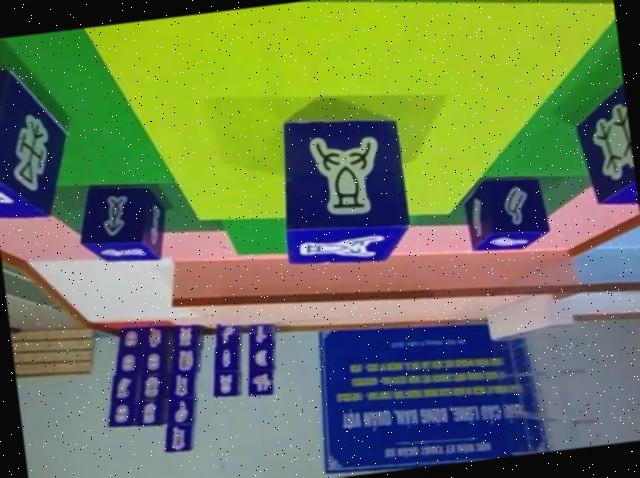R2 Real Blue: (271, 106, 414, 272), (0, 44, 76, 216), (570, 68, 638, 211), (71, 175, 170, 268), (459, 169, 551, 256)
